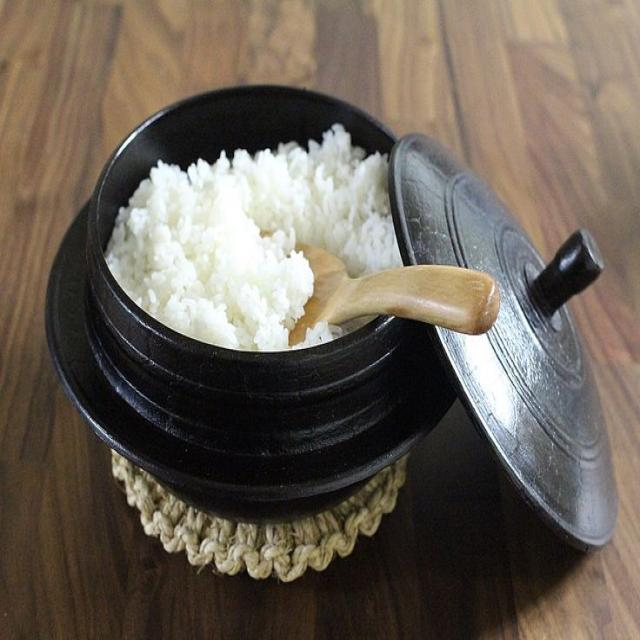rice: (107, 125, 399, 350)
